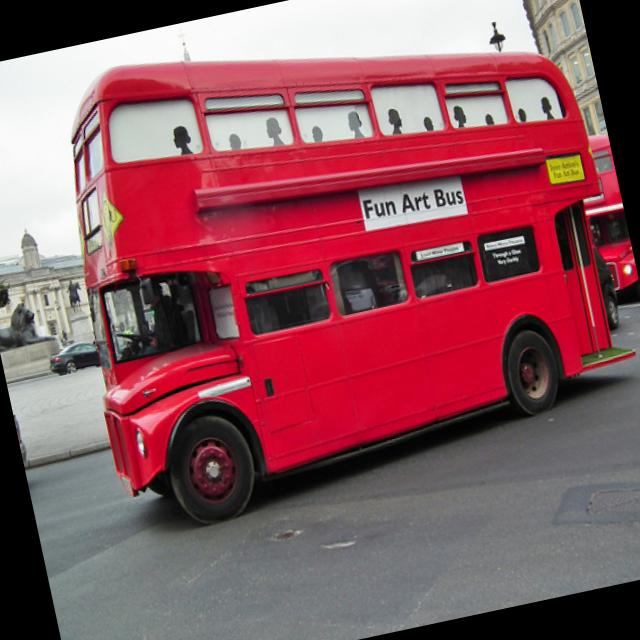Vehicle: (30, 0, 640, 545), (570, 132, 640, 296), (592, 244, 622, 328), (45, 338, 102, 377)
